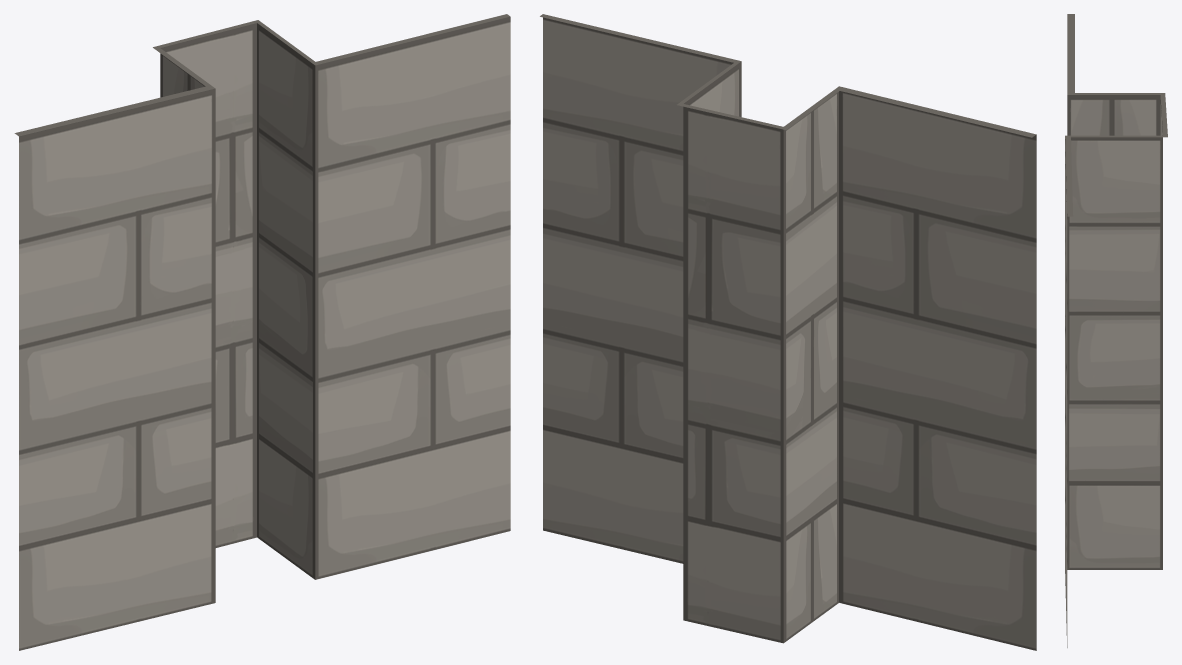
Rendered from wall_block01.fbx.
3 views of the same model, side by side, from view 1: azimuth 30°, elevation 25°; view 2: azimuth 150°, elevation 25°; view 3: azimuth 270°, elevation 25° (orthographic). The views are drawn at different scales.
Visible parts, largest first — view 1: polySurface72; view 2: polySurface72; view 3: polySurface72.
Part boxes in pixels (x1,y1,x2,y2): polySurface72: (14,14,510,650); polySurface72: (540,14,1036,650); polySurface72: (1065,14,1167,647).
Bounding box in the file's own units: 1000 × 1000 × 215.
